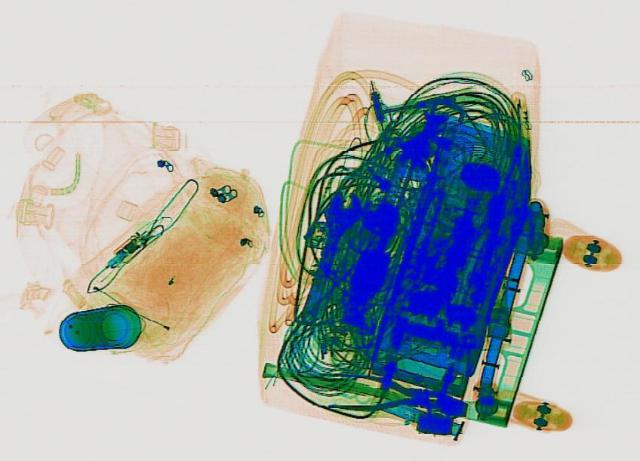Pliers: (320, 369, 446, 416)
Wrench: (289, 190, 369, 323)
